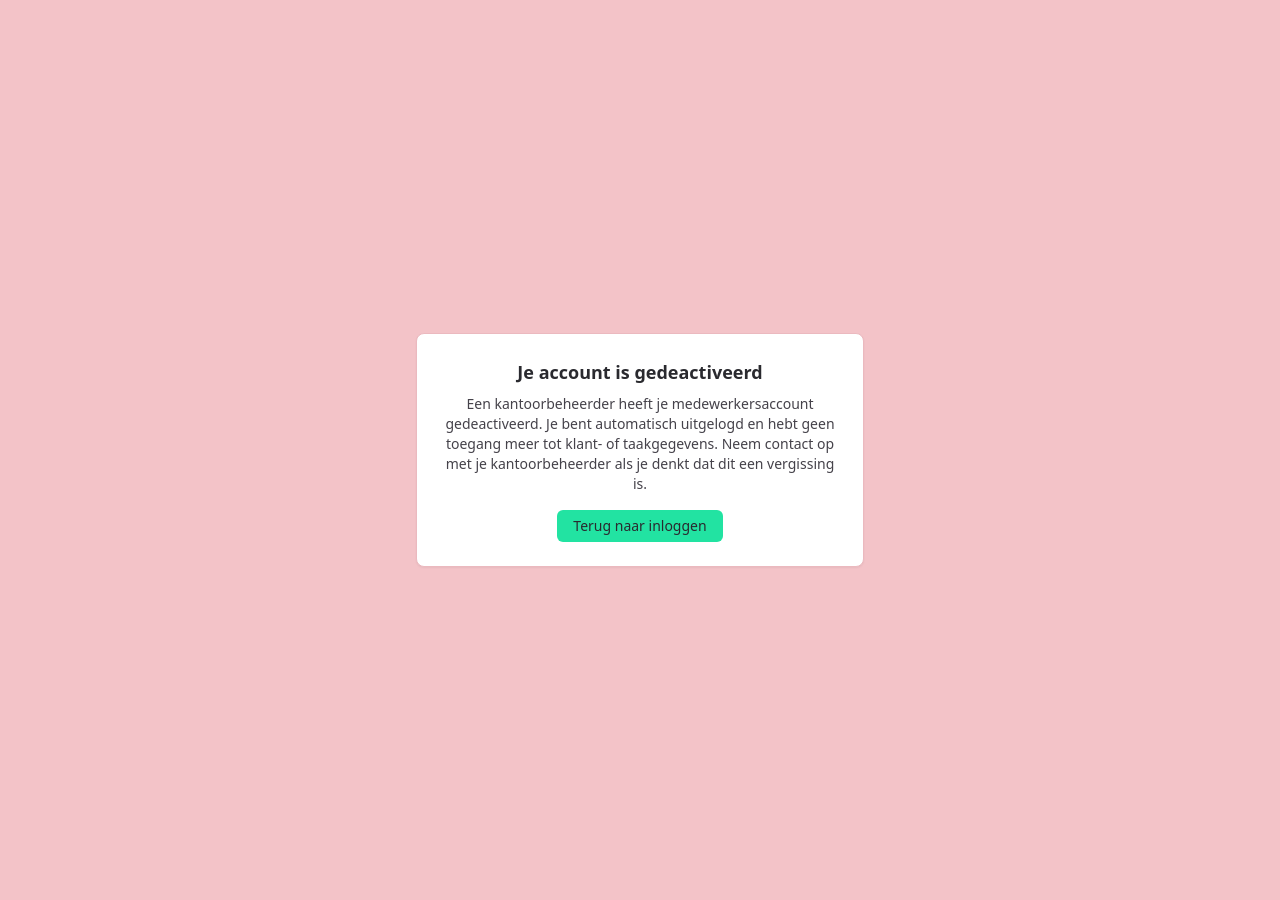
Test: App — employee deactivation flow (actief: true -> false) › acknowledging the deactivation screen returns to the sign-in page once the session is cleared
Expected: the heading "Je account is gedeactiveerd" is shown, [517,360,763,384]
Click the button "Terug naar inloggen" at (640, 526), box [557,510,723,542]
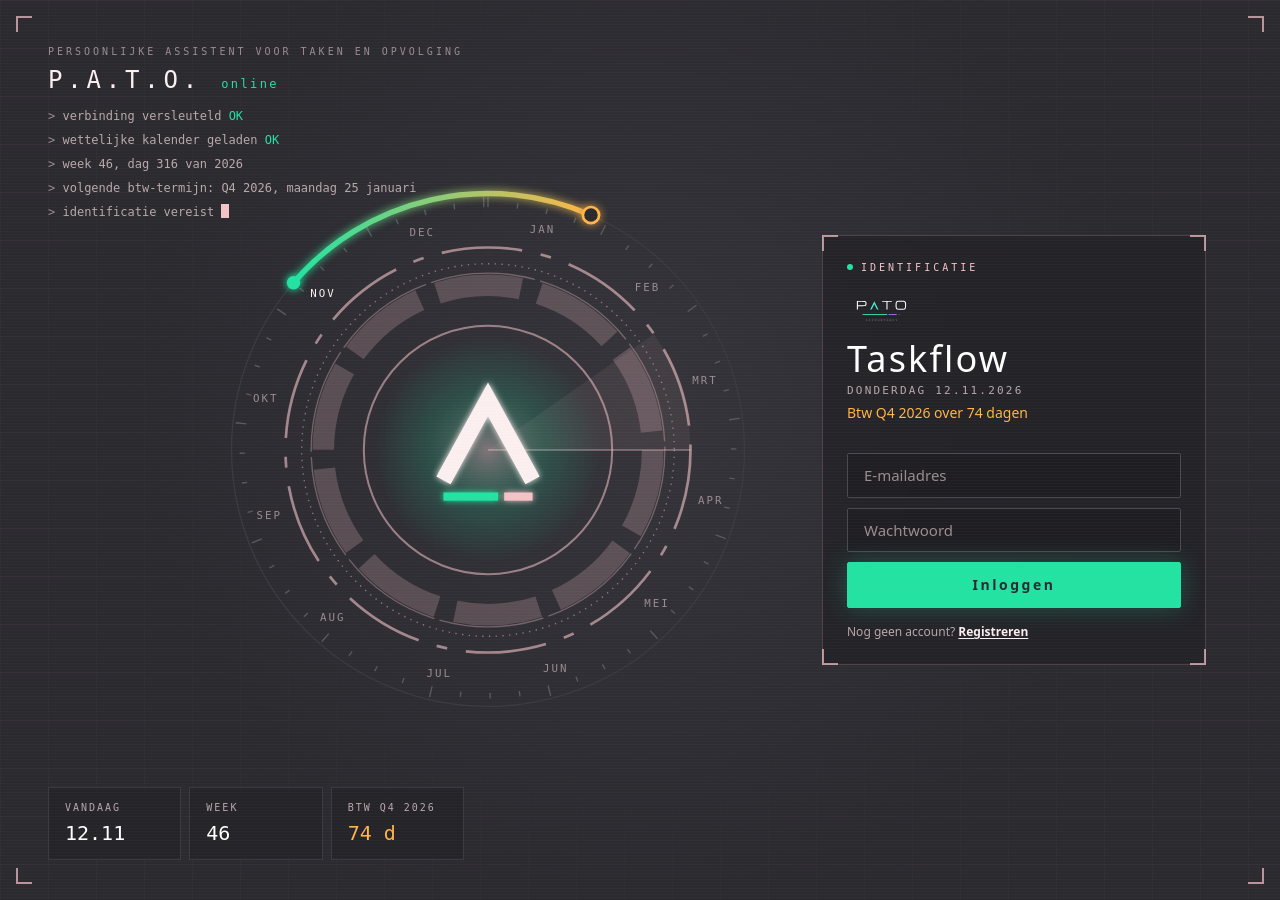
Expected: the heading "Taskflow" is shown, [847,334,1009,383]
Expected: the heading "Je account is gedeactiveerd" is gone
